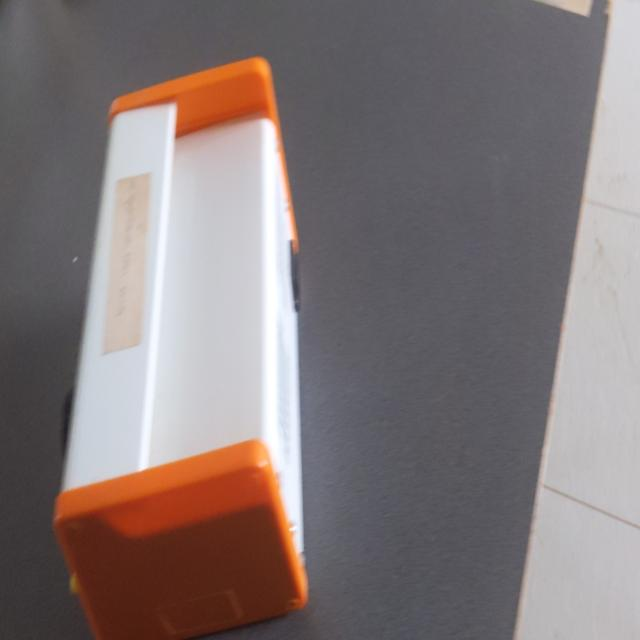AC and DC Power Supply 24V: (48, 50, 309, 623)
